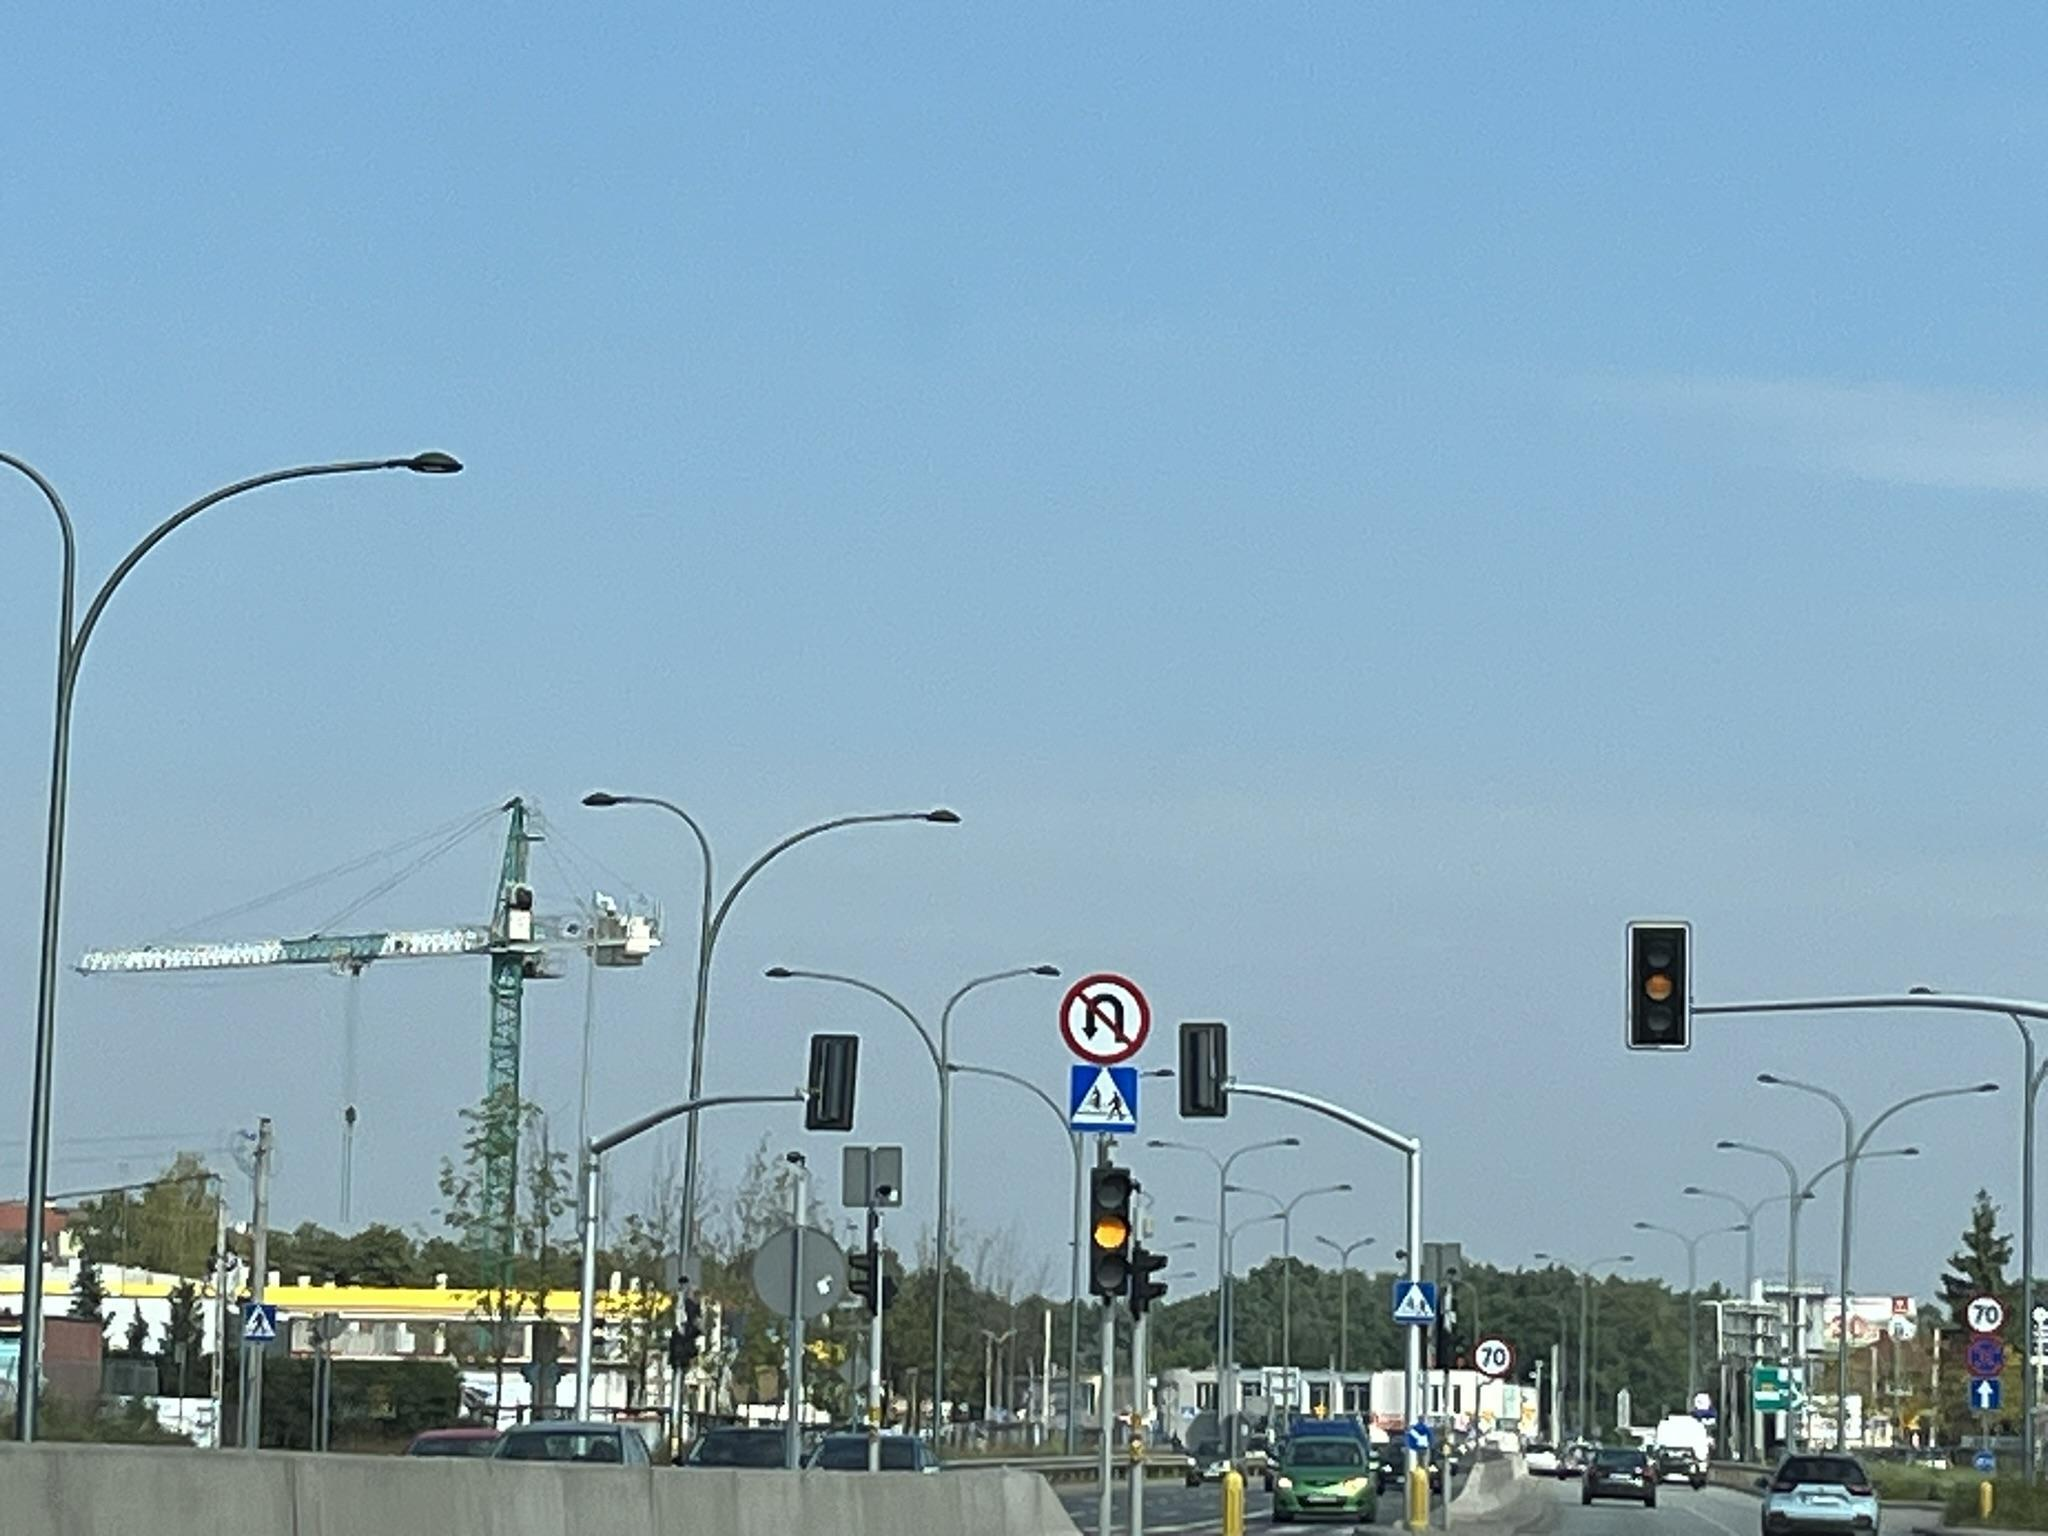direction-city: (1751, 1367, 1809, 1410)
information: (1068, 1063, 1138, 1134), (1392, 1279, 1438, 1325), (240, 1304, 277, 1342), (1969, 1378, 2001, 1409)
mandatory: (1405, 1423, 1435, 1450)
prohibitory: (1058, 971, 1151, 1065), (1471, 1334, 1516, 1379), (1966, 1336, 2008, 1378), (1964, 1292, 2006, 1334)
